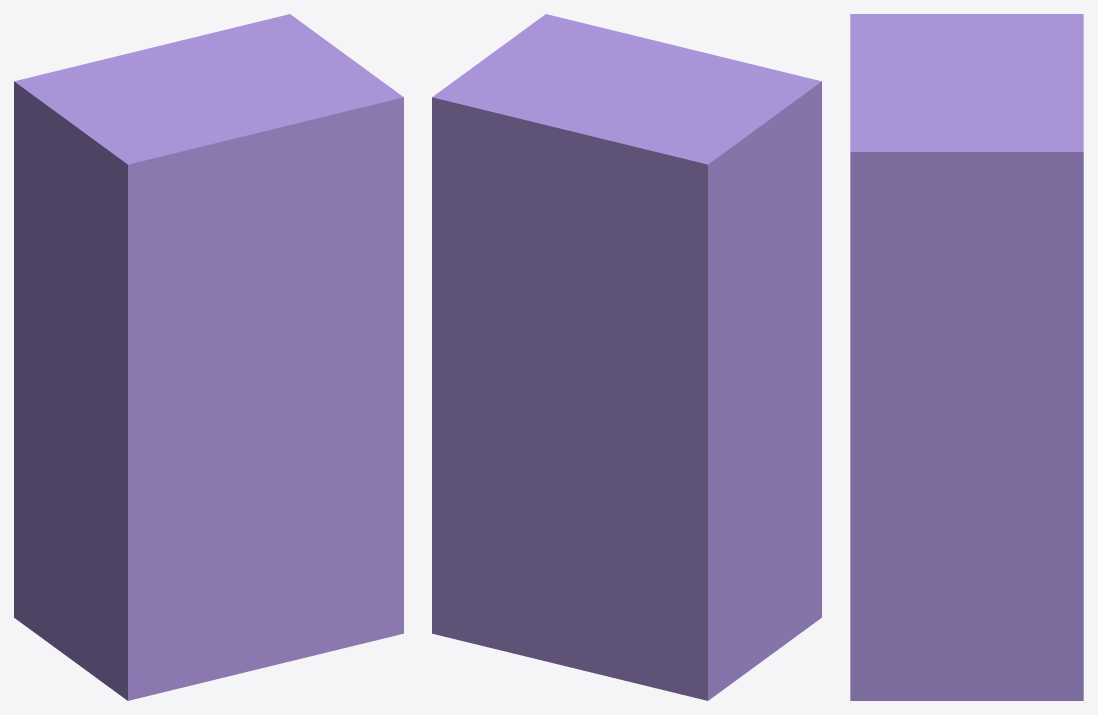
Rendered from hero.gltf.
The picture shows the model from 3 angles, left to right: view 1: azimuth 30°, elevation 25°; view 2: azimuth 150°, elevation 25°; view 3: azimuth 270°, elevation 25°; orthographic projection. The views are drawn at different scales.
Visible parts, largest first — view 1: HeroMesh; view 2: HeroMesh; view 3: HeroMesh.
Part boxes in pixels (<box>): HeroMesh: <box>14,14,403,700</box>; HeroMesh: <box>432,14,821,700</box>; HeroMesh: <box>850,14,1083,700</box>.
Bounding box in the file's own units: 0.7 × 1.3 × 0.5.
